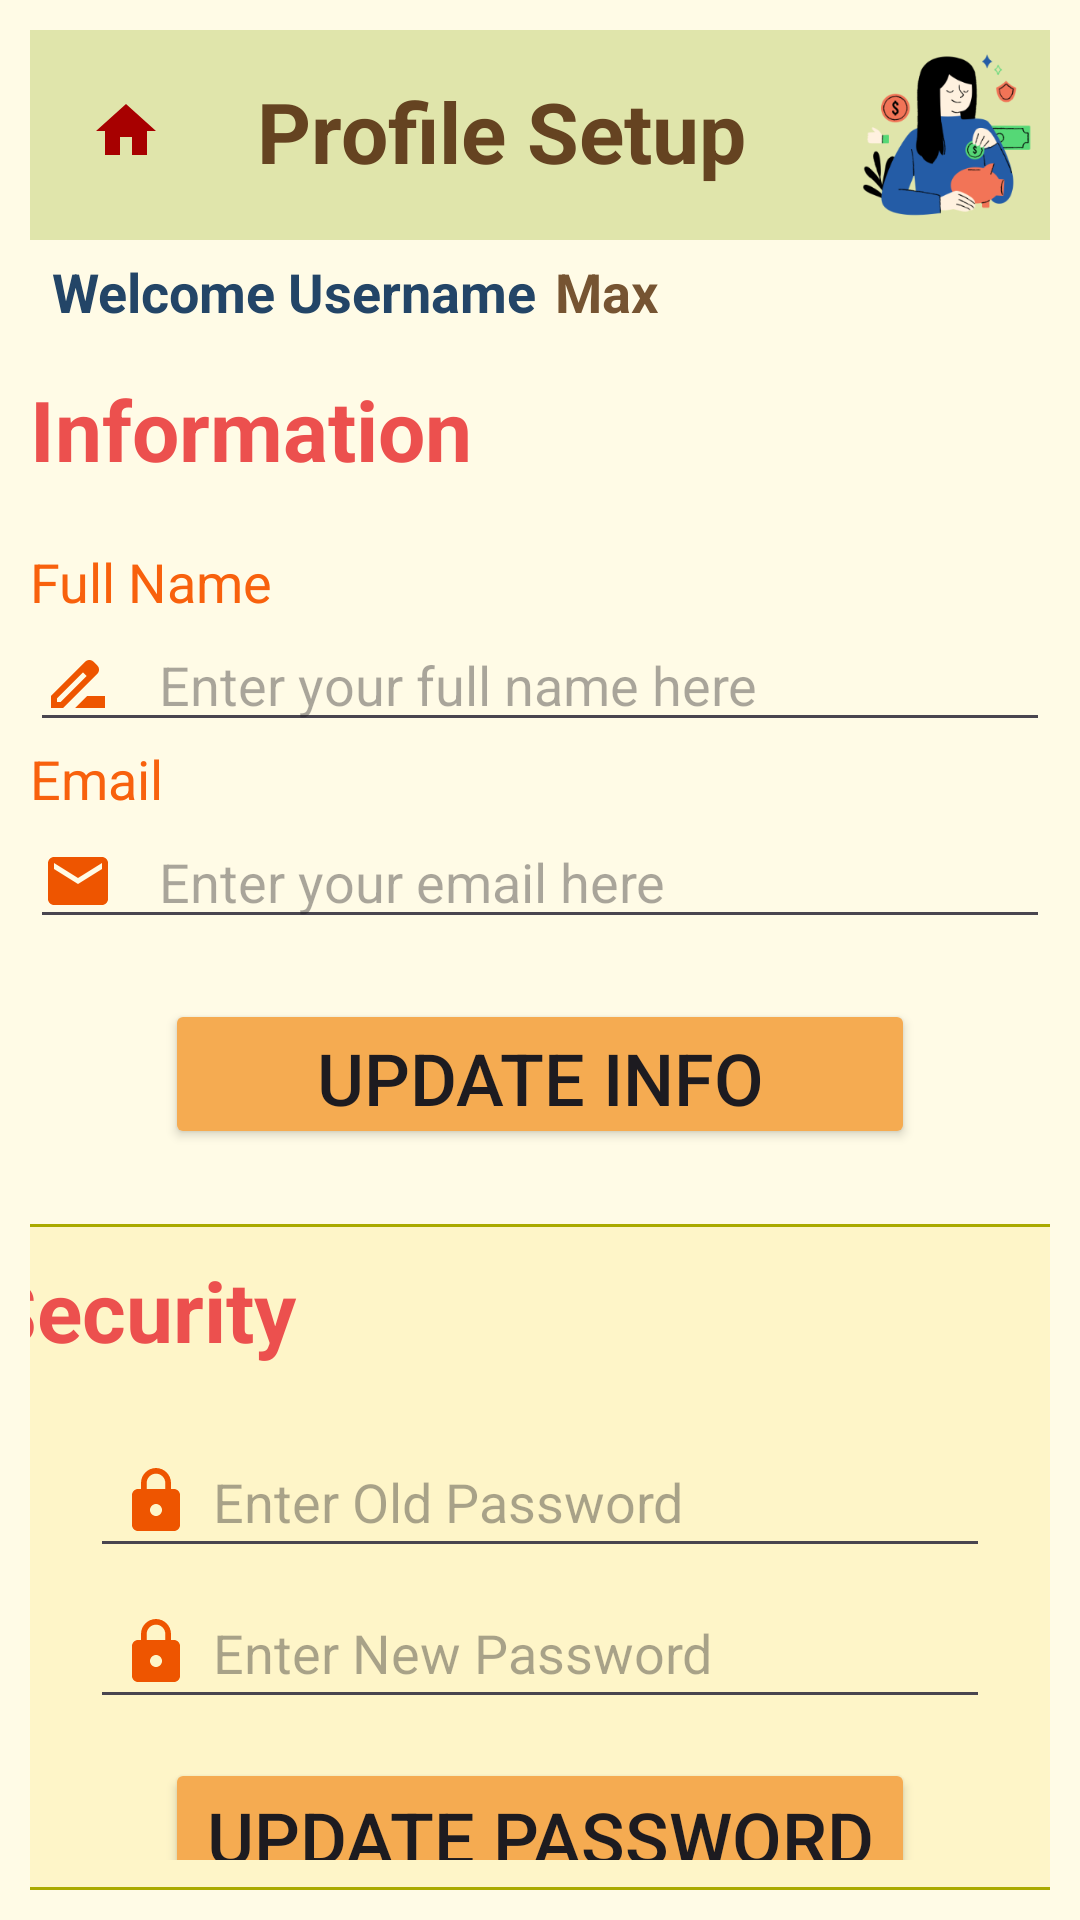

Where to tap for icons on this 1080px×1920px app screen, as (x,y):
dashboardpicture: (945,135)
